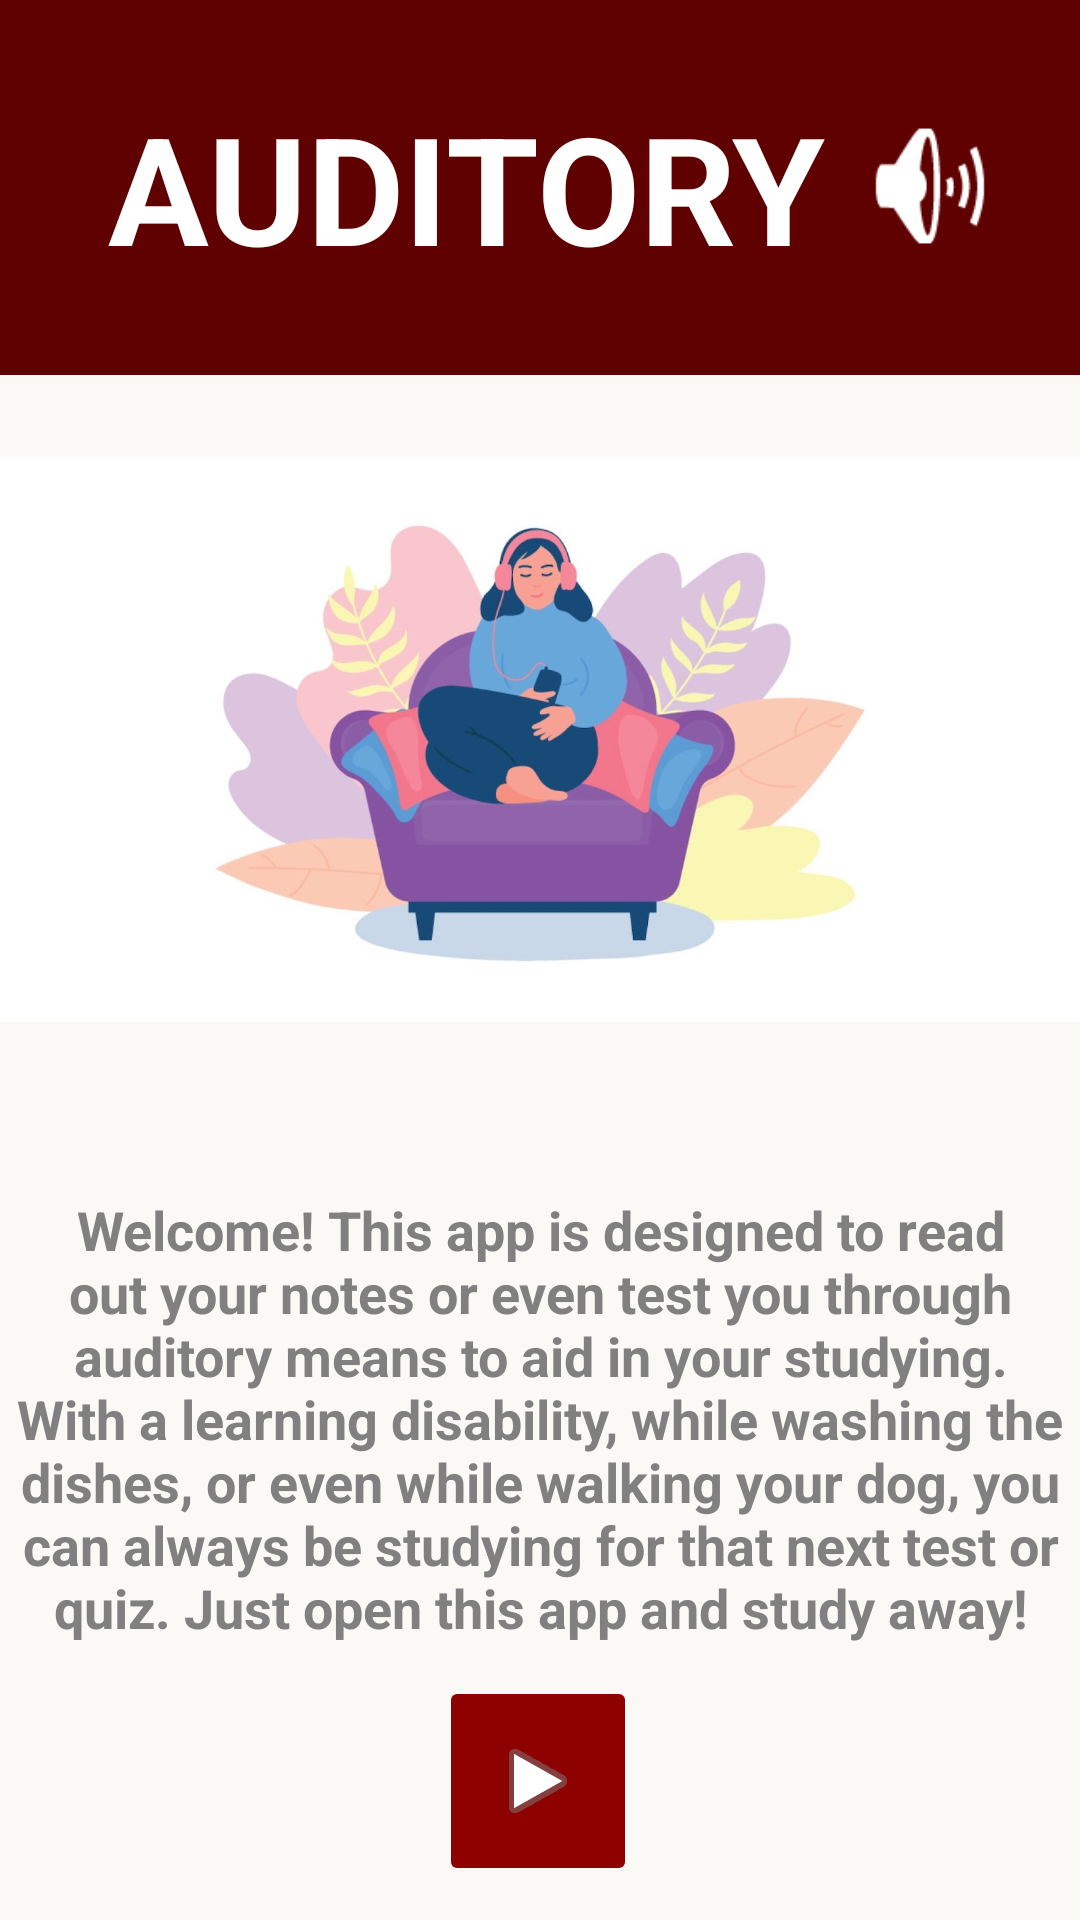

Named icons in this screenshot (1080px x 1920px) and their bounding boxes, [x1,y1,x2,y2]:
lock silent mode off: [875,128,985,244]
play: [451,1694,625,1868]
